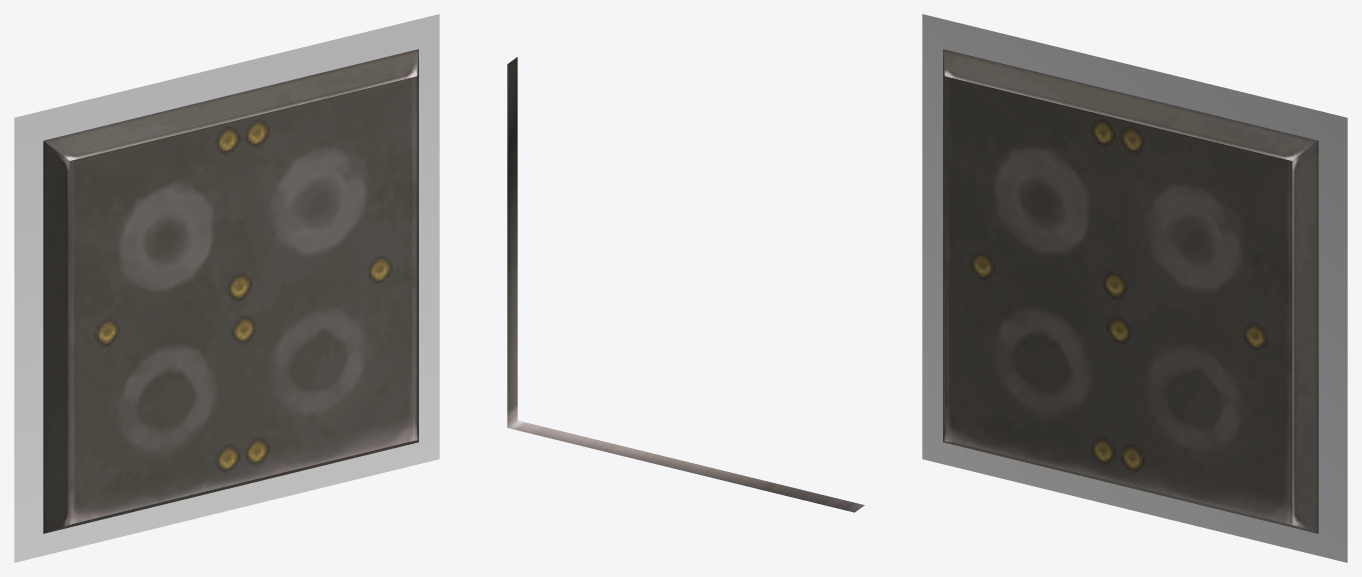
Rendered from tile_1x1.glb.
3 renders of one model, left to right at view 1: azimuth 30°, elevation 25°; view 2: azimuth 150°, elevation 25°; view 3: azimuth 330°, elevation 25°, orthographic.
Parts seen in each view (by area): view 1: spikes.tile_1x1-Mesh[1], spikes.tile_1x1-Mesh[2]; view 2: spikes.tile_1x1-Mesh[0]; view 3: spikes.tile_1x1-Mesh[1], spikes.tile_1x1-Mesh[2].
Boxes of the visible parts, bbox=[...] form: spikes.tile_1x1-Mesh[1]: bbox=[43, 49, 418, 533]; spikes.tile_1x1-Mesh[2]: bbox=[14, 14, 439, 562]; spikes.tile_1x1-Mesh[0]: bbox=[507, 57, 864, 512]; spikes.tile_1x1-Mesh[1]: bbox=[943, 49, 1318, 533]; spikes.tile_1x1-Mesh[2]: bbox=[922, 14, 1347, 562].
Size of the model in its own units: 1.2 by 1.2 by 0.14.
Materials: 2 (1 with a texture image).
